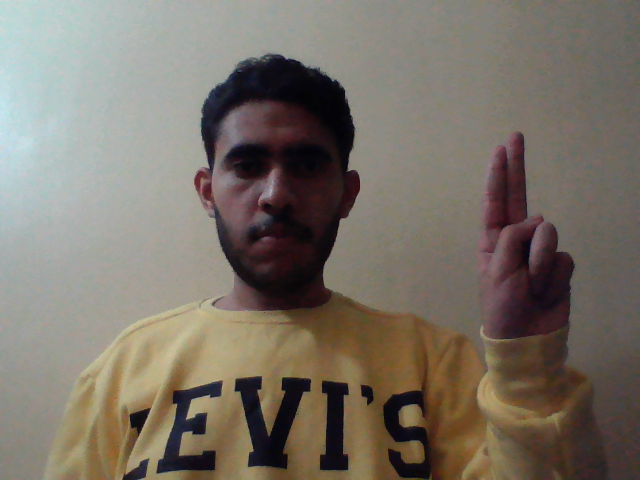U: (478, 126, 583, 362)
